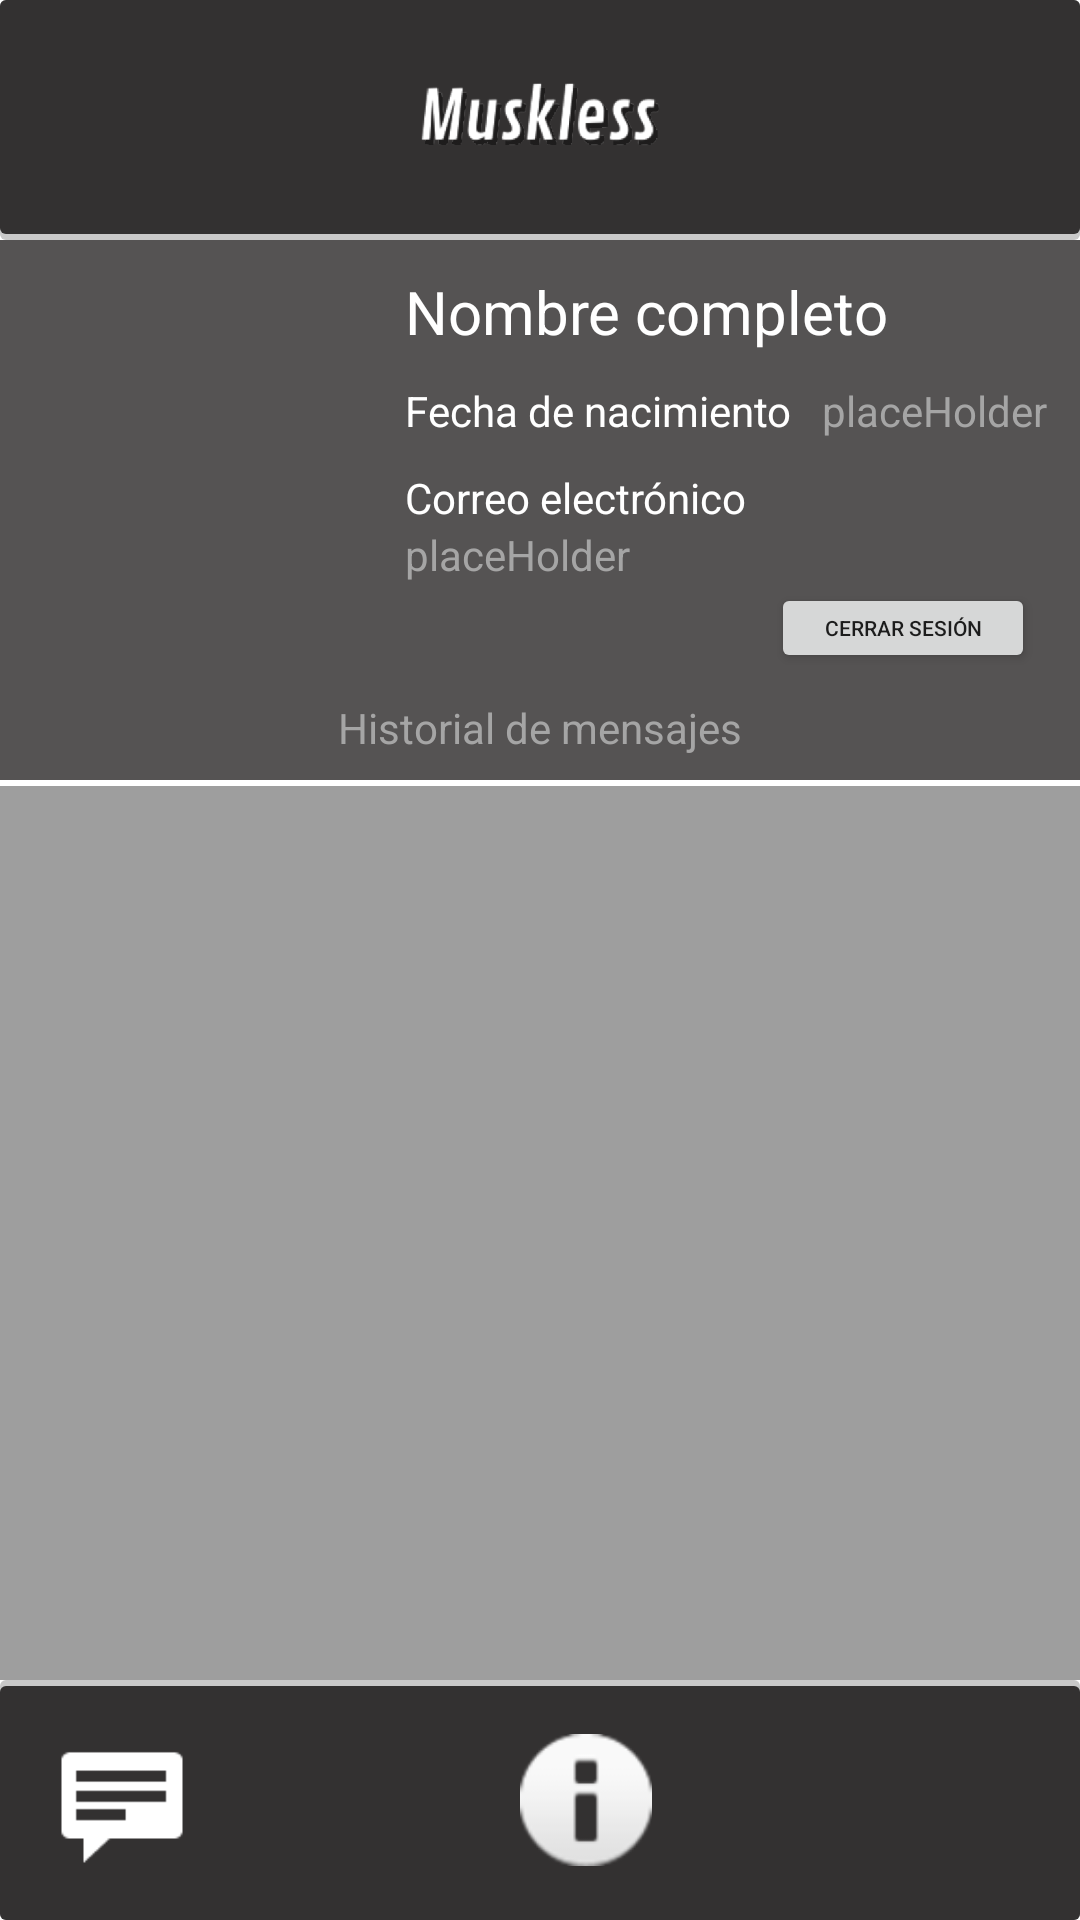

Where icons sit on this 1080px×1920px app screen, as (x1, y1, x2, y2):
chat: (61, 1752, 183, 1863)
info: (520, 1734, 652, 1866)
